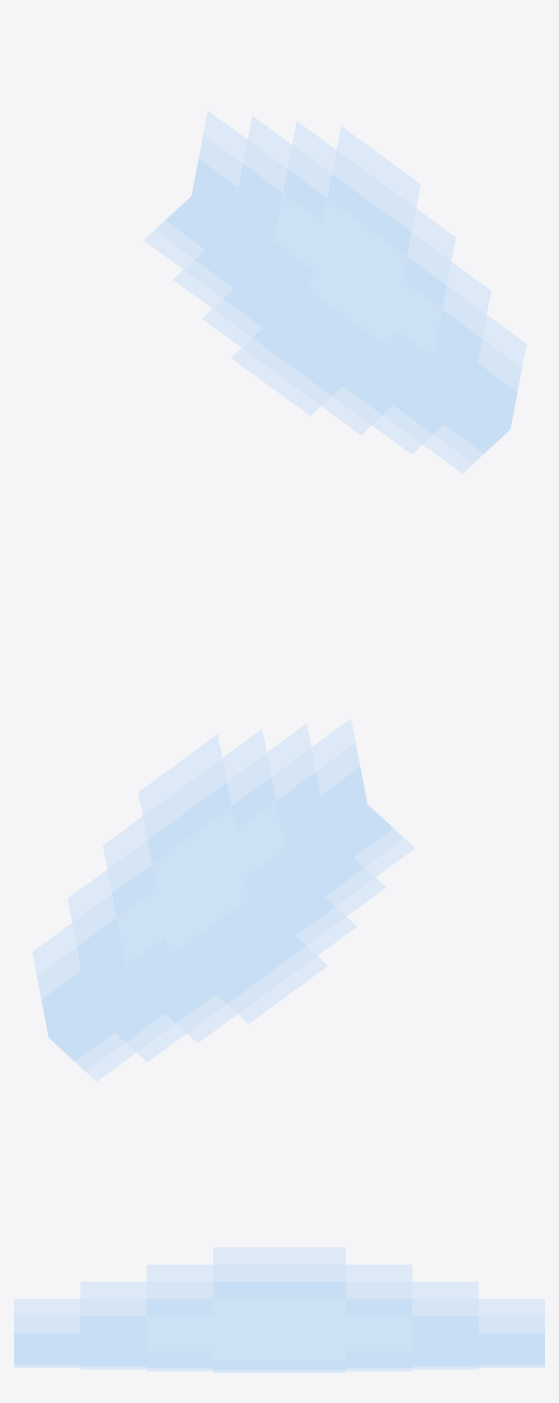
The picture shows the model from 3 angles, top to bottom: view 1: azimuth 30°, elevation 25°; view 2: azimuth 150°, elevation 25°; view 3: azimuth 270°, elevation 25°; orthographic projection. The views are drawn at different scales.
Bounding box in the file's own units: 0.3838 × 0.5088 × 1.
1 material, 1 textured.
